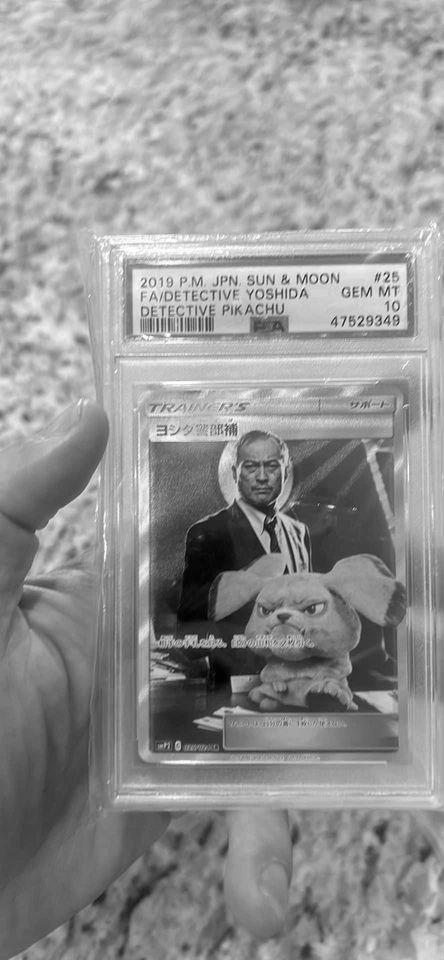card: (137, 386, 408, 763)
